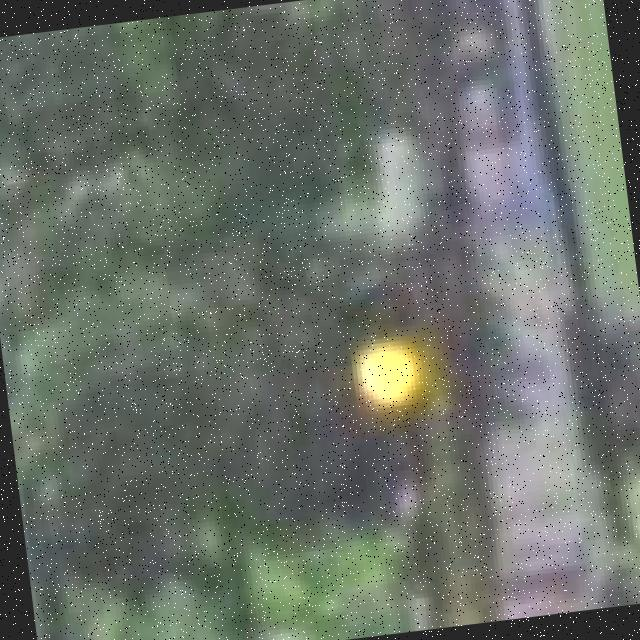Zolte swiatlo: (338, 278, 436, 490)
